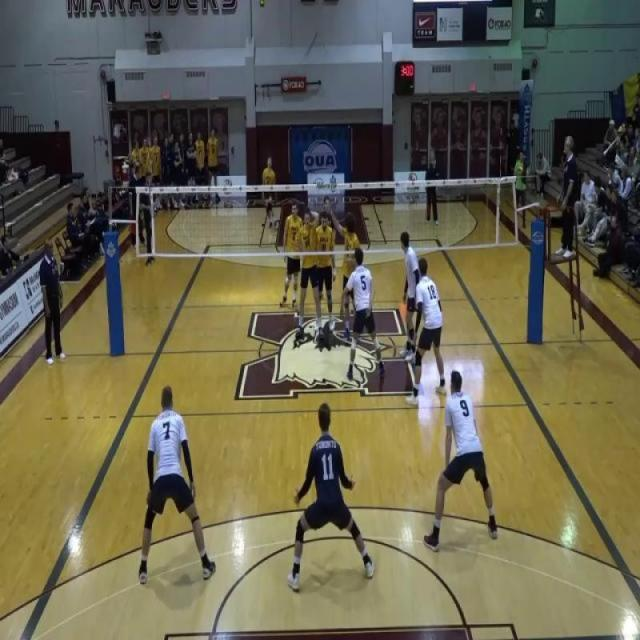volleyball: (517, 165, 524, 176), (258, 0, 266, 8)
